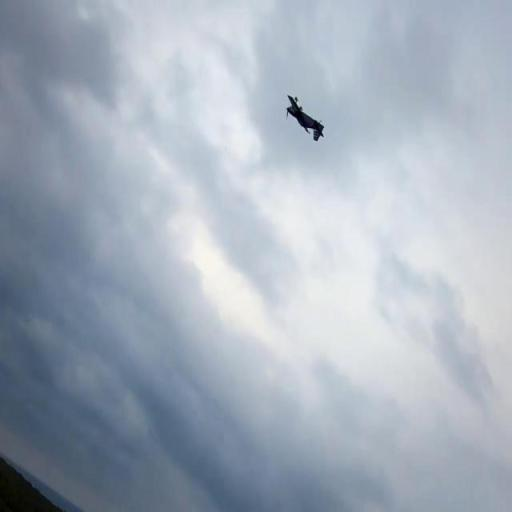uav: (286, 94, 324, 140)
